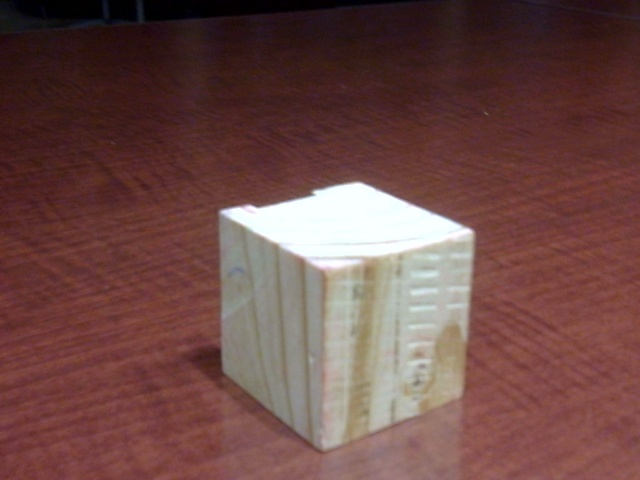NormalBlock: (218, 212, 473, 452)
